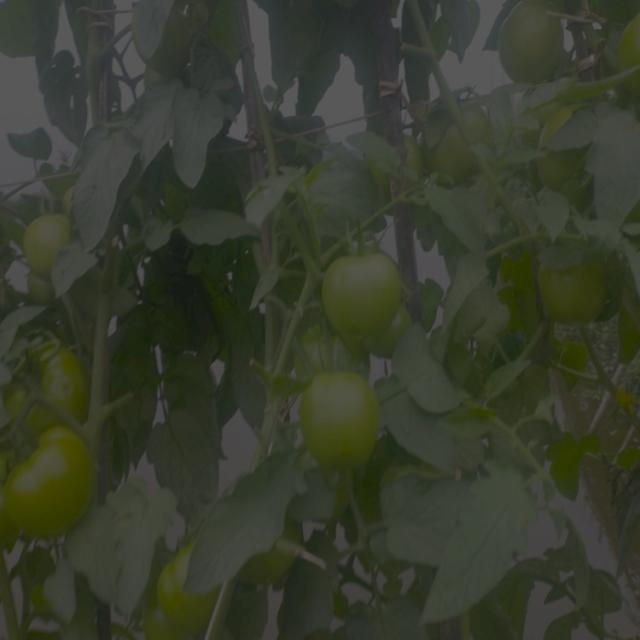tomato: (288, 362, 387, 479), (8, 430, 103, 538), (322, 249, 406, 341), (1, 348, 84, 435), (489, 1, 565, 79), (540, 268, 618, 336), (156, 555, 218, 627), (256, 522, 321, 587), (417, 116, 477, 184), (21, 213, 76, 275), (619, 14, 640, 85)
